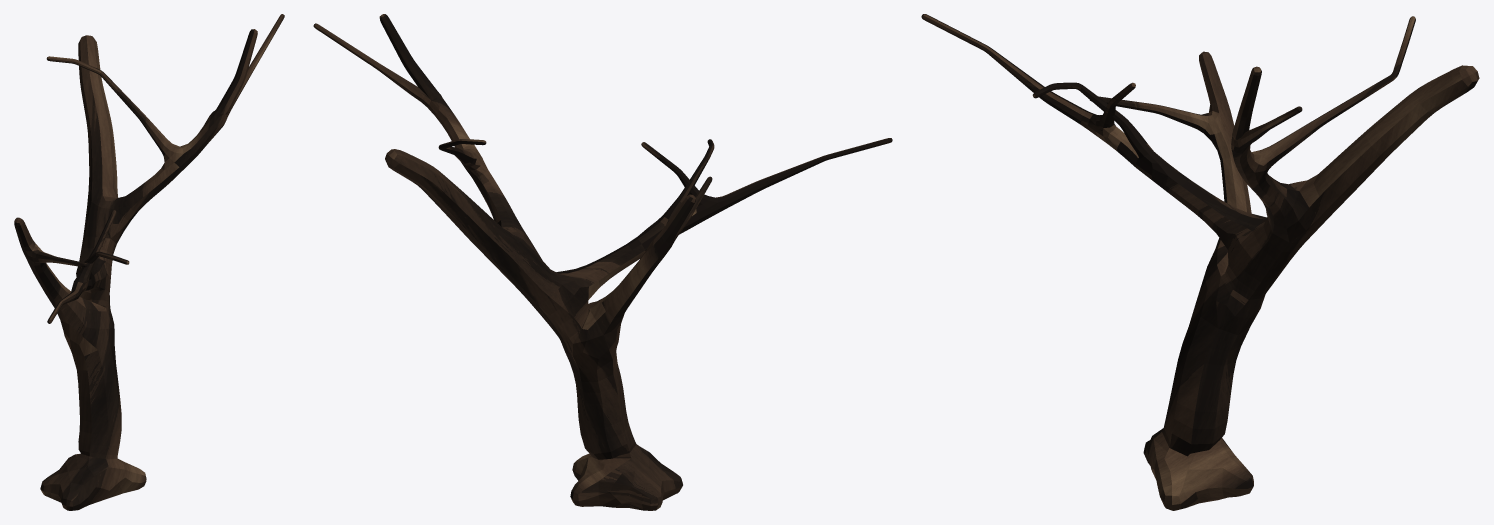
Rendered from tree_dead_1.glb.
The picture shows the model from 3 angles, left to right: view 1: azimuth 30°, elevation 25°; view 2: azimuth 150°, elevation 25°; view 3: azimuth 270°, elevation 25°; orthographic projection. The views are drawn at different scales.
Parts seen in each view (by area): view 1: tree_dead_5; view 2: tree_dead_5; view 3: tree_dead_5.
Part boxes in pixels (left/top/right/bottom): tree_dead_5: left=14, top=14, right=284, bottom=510; tree_dead_5: left=313, top=14, right=892, bottom=510; tree_dead_5: left=921, top=14, right=1479, bottom=510.
Size of the model in its own units: 5.07 by 5.2 by 4.83.
Materials: 1 (1 with a texture image).
